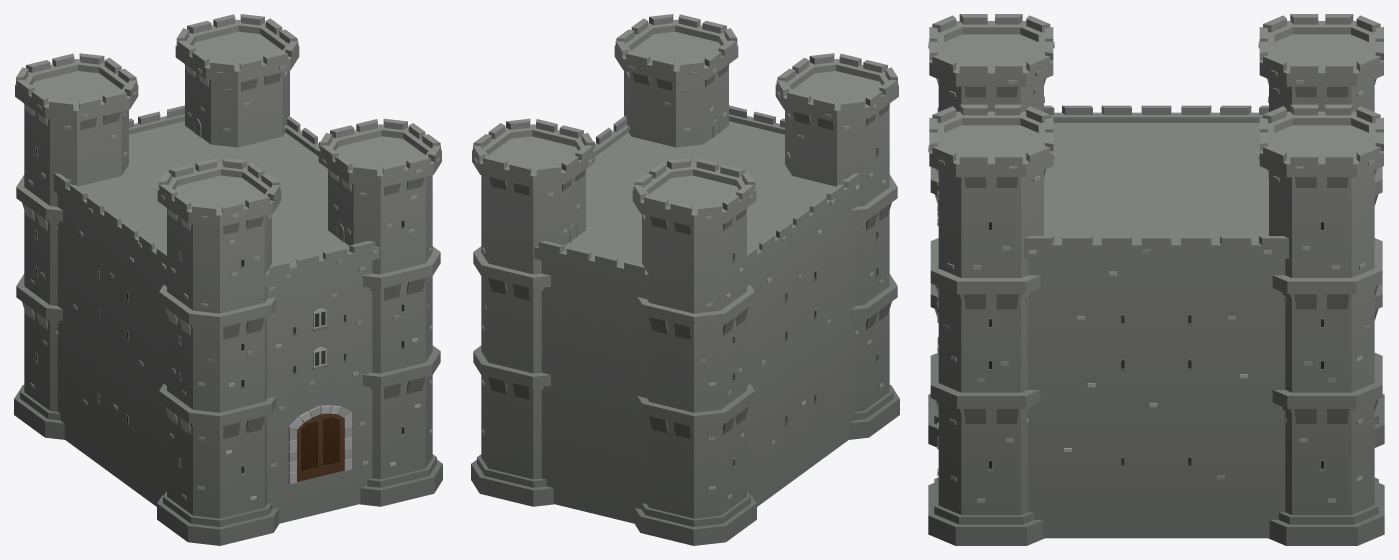
3 renders of one model, left to right at view 1: azimuth 30°, elevation 25°; view 2: azimuth 150°, elevation 25°; view 3: azimuth 270°, elevation 25°, orthographic. The views are drawn at different scales.
Visible parts, largest first — view 1: Castle_0; view 2: Castle_0; view 3: Castle_0.
Part boxes in pixels (box(x1,y1,x2,y2)): Castle_0: box(14, 14, 442, 545); Castle_0: box(471, 14, 899, 545); Castle_0: box(928, 14, 1384, 545).
Size of the model in its own units: 43.12 by 54.25 by 57.78.
Materials: 1 (1 with a texture image).
